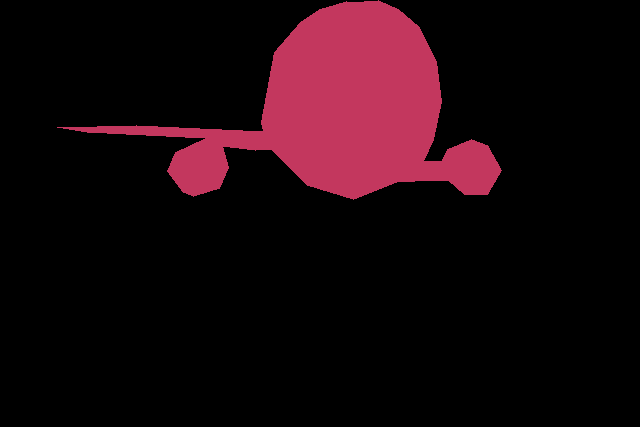Airplane: (57, 0, 502, 199)
